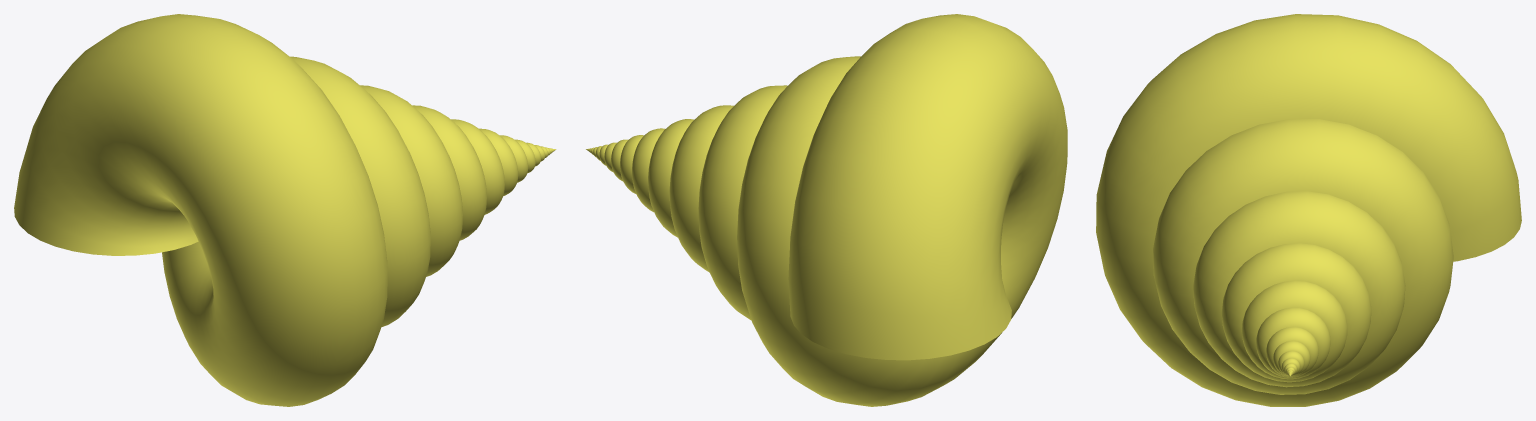
The picture shows the model from 3 angles, left to right: view 1: azimuth 30°, elevation 25°; view 2: azimuth 150°, elevation 25°; view 3: azimuth 270°, elevation 25°; orthographic projection. The views are drawn at different scales.
Visible parts, largest first — view 1: t10; view 2: t10; view 3: t10.
Part boxes in pixels (<box>): t10: <box>14,14,556,406</box>; t10: <box>586,14,1067,406</box>; t10: <box>1096,14,1521,406</box>.
Bounding box in the file's own units: 500 × 376 × 411.
